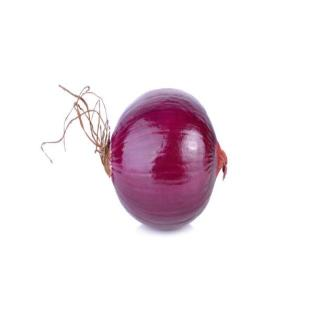Bawang Merah: (96, 86, 230, 233)
